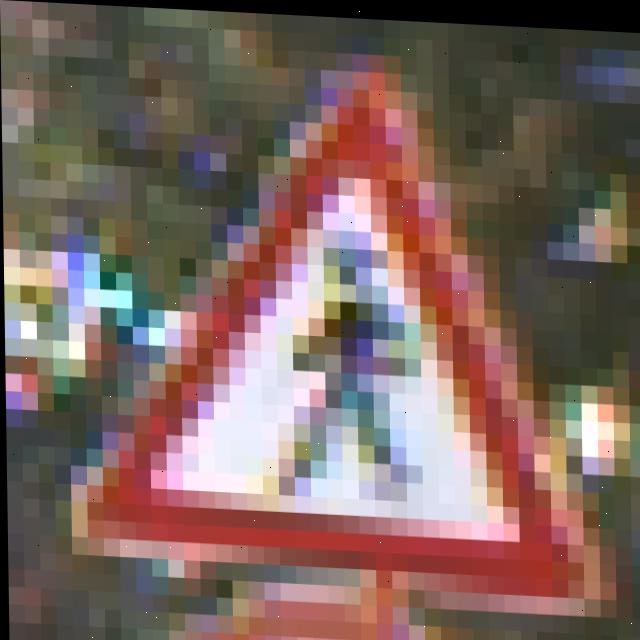crosswalk: (113, 77, 640, 602)
